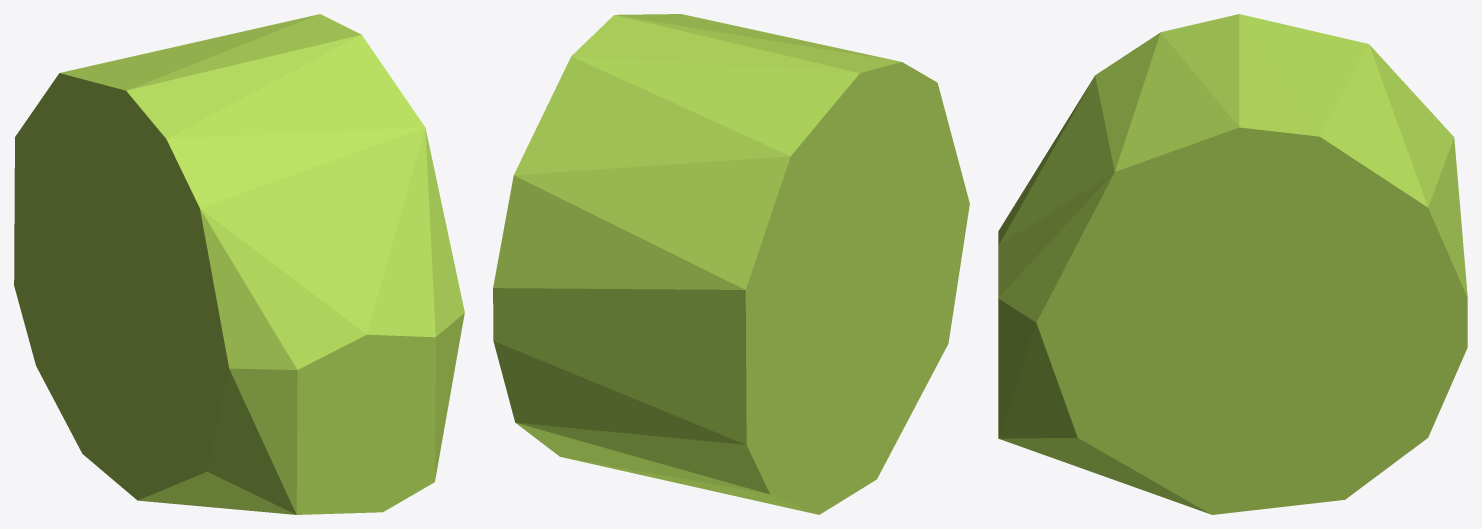
Rendered from niryo_one_Link_2_coll_1.dae.
3 views of the same model, side by side, from view 1: azimuth 30°, elevation 25°; view 2: azimuth 150°, elevation 25°; view 3: azimuth 270°, elevation 25° (orthographic). The views are drawn at different scales.
Parts seen in each view (by area): view 1: Node_00000276BF539E60; view 2: Node_00000276BF539E60; view 3: Node_00000276BF539E60.
Boxes of the visible parts, box(x1,y1,x2,y2) form: Node_00000276BF539E60: box(14, 14, 464, 514); Node_00000276BF539E60: box(493, 14, 969, 514); Node_00000276BF539E60: box(998, 14, 1467, 514).
Bounding box in the file's own units: 0.0525 × 0.0845 × 0.0922.
